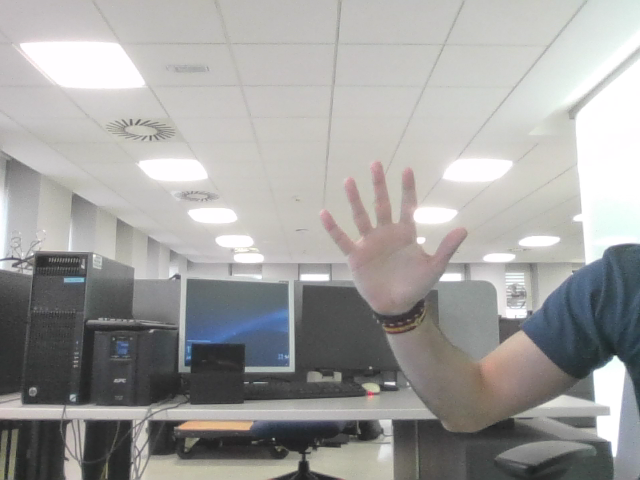Mano Abierta: (331, 174, 453, 283)
